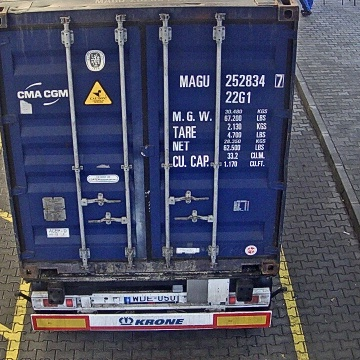serial_id: (179, 74, 283, 87)
